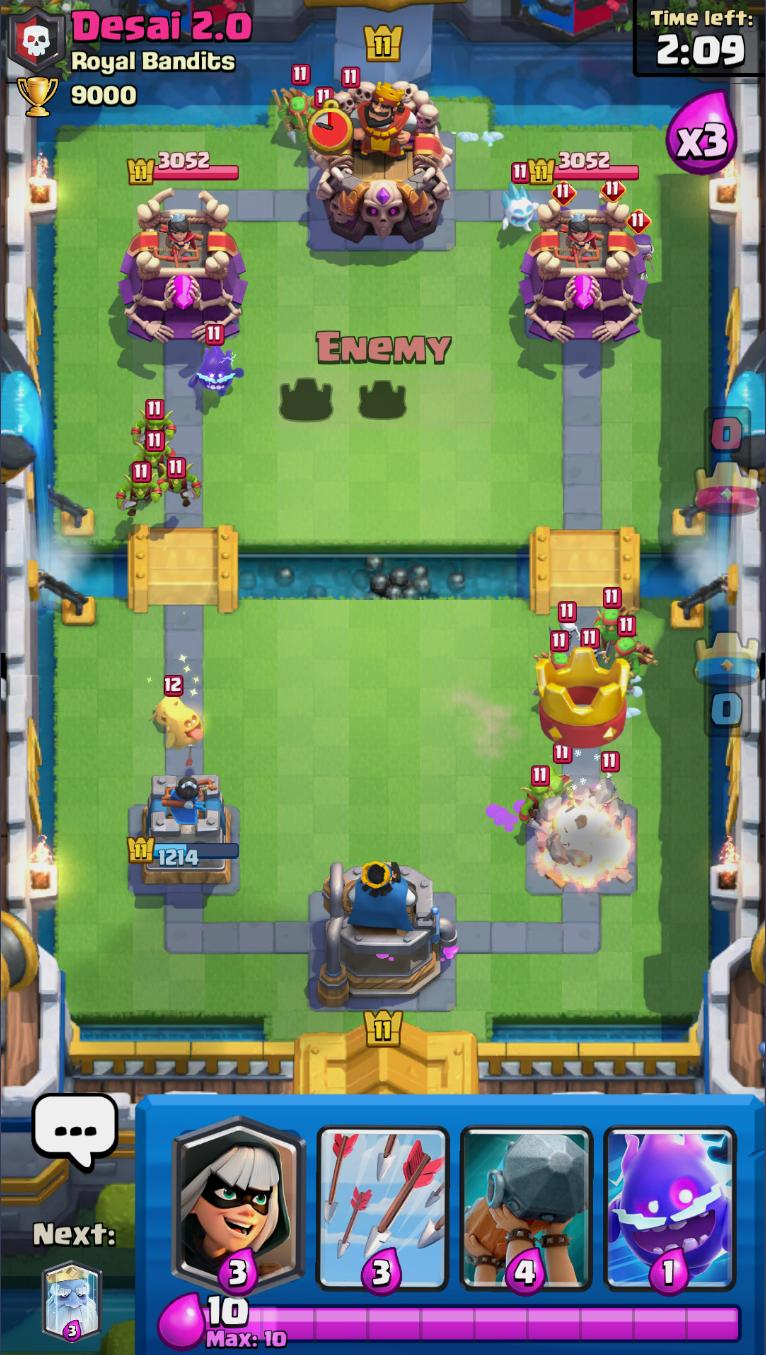ArrowDeck: (308, 1099, 456, 1292)
BanditDeck: (167, 1096, 313, 1295)
BattleRamDeck: (455, 1096, 600, 1293)
ElectroSpirit: (190, 326, 246, 395)
ElectroSpiritDeck: (598, 1098, 745, 1292)
Elixir: (206, 1292, 251, 1330)
EnemyTower: (518, 186, 650, 344), (121, 187, 249, 342)
EvoSkeleton: (624, 209, 659, 275)
Goblin: (120, 464, 164, 519), (130, 400, 175, 450), (159, 457, 199, 512), (520, 766, 554, 829), (545, 742, 576, 808), (131, 436, 178, 474)
HealSpirit: (161, 702, 205, 754), (149, 679, 190, 727)
IceSpirit: (499, 160, 543, 240)
KingTower: (309, 78, 456, 245)
MyKingTower: (314, 860, 460, 1009)
MyPrincessTower: (129, 771, 243, 891)
MyPrincessTowerBrocken: (529, 773, 643, 892)
MyPrincessTowerHP: (127, 837, 240, 865)
PrincessTower: (552, 210, 605, 267), (152, 210, 203, 267)
RoyaleGhostNext: (41, 1255, 103, 1344)
Skeleton: (550, 603, 584, 649)
SpearGoblin: (606, 615, 651, 683), (275, 65, 312, 144), (592, 588, 630, 656), (536, 631, 576, 671)
TowerPrincessHP: (126, 151, 240, 186), (529, 151, 639, 186)
